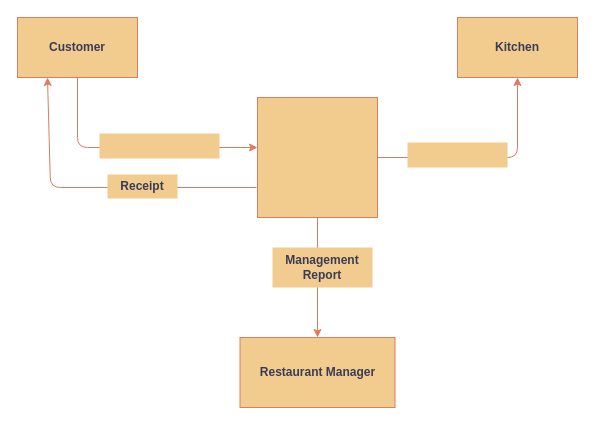
The diagram is 595 pixels wide and 425 high, and some of its shapes have lost their labels. The shapes that lost their labels are listed below. From the top down, each one's centre as x and y in pixels, then its label:
At point (159, 145): "Customer Order".
At point (317, 157): "Food Ordering System".
At point (457, 154): "Food Order".
